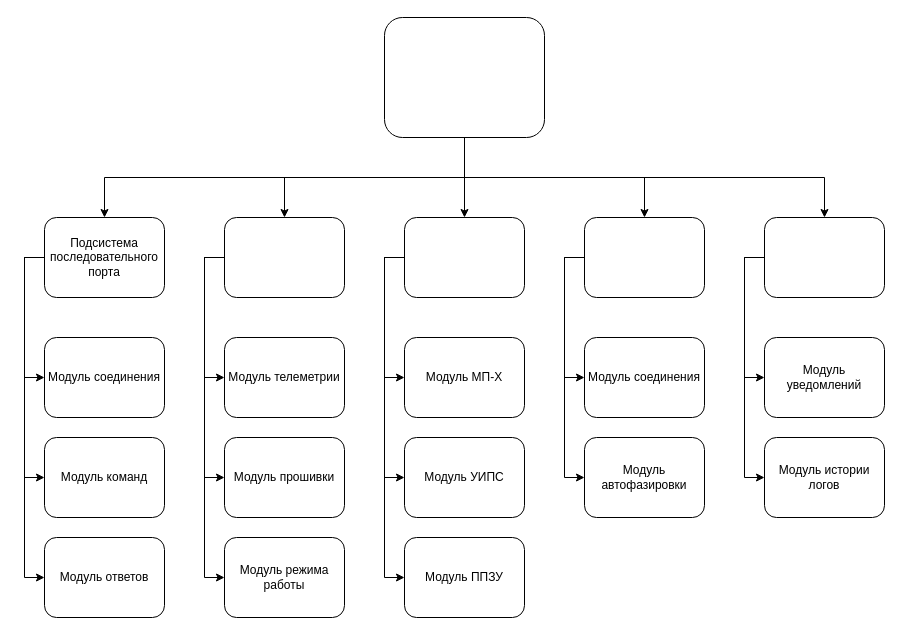
Image size: 902x635. Some labels were removed from this diagram. The shapes that lost their labels are listed below. From the top down, each one's centre as x and y in pixels, then its label:
At point (464, 77): "AFAR Qt".
At point (284, 257): "Подсистема состояния АФАР".
At point (464, 257): "Подсистема компонентов".
At point (644, 257): "Подсистема сетевого анализатора".
At point (824, 257): "Подсистема логирования".
